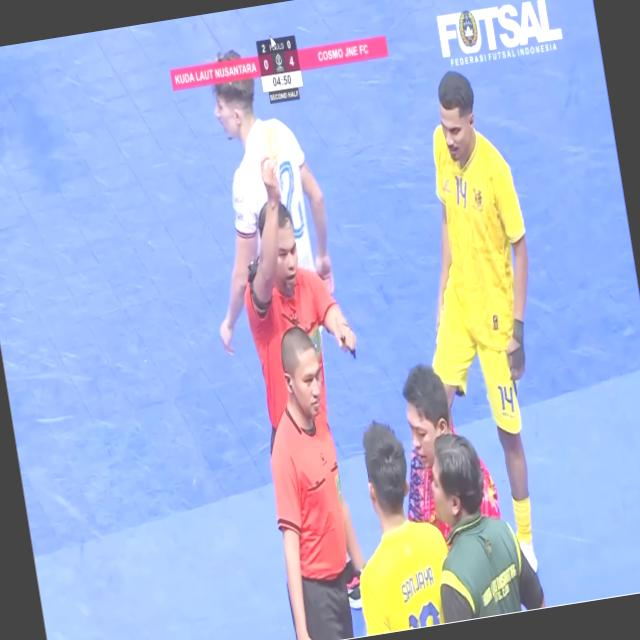official: (433, 435, 545, 622)
referee: (245, 153, 355, 440), (271, 327, 353, 639)
